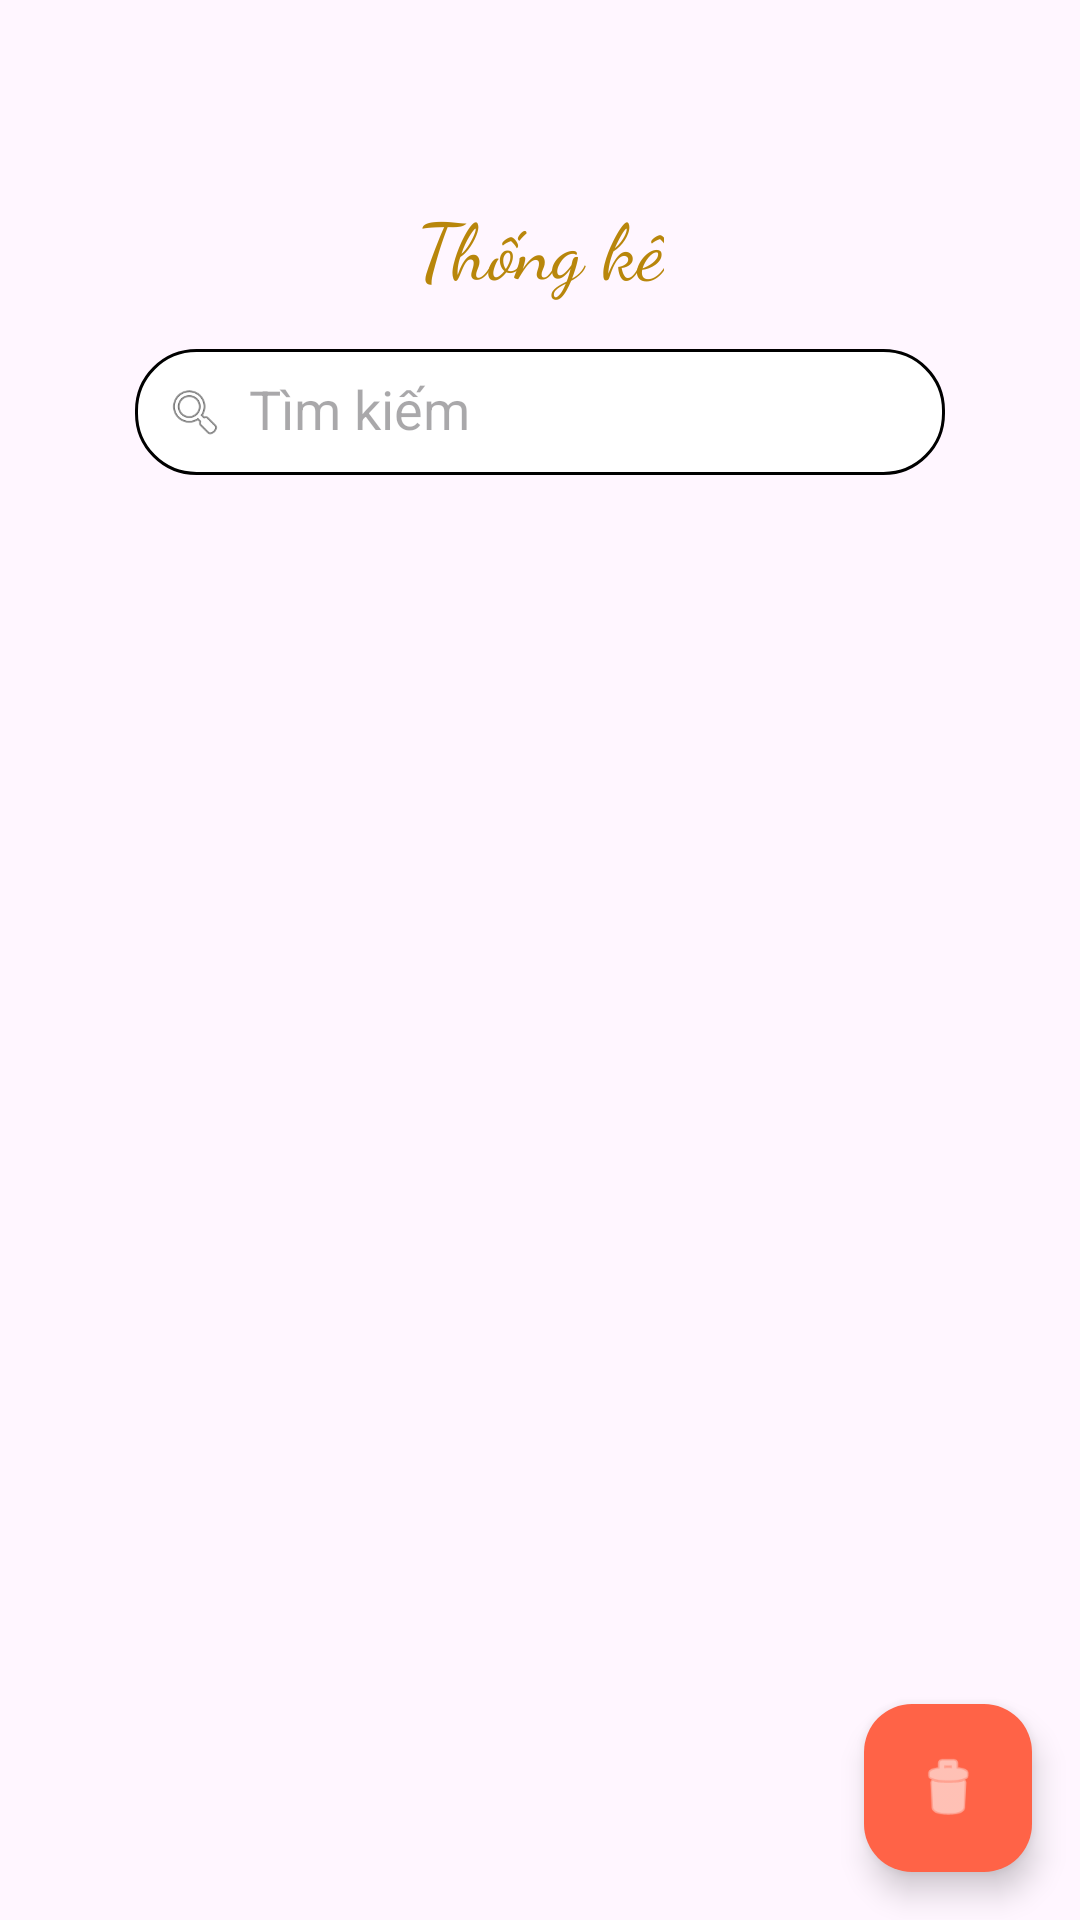

Point at icon controls on the screen. Image size 1080x1920, points as (x,y).
search: (195,412)
Xoá thống kê: (948,1788)
